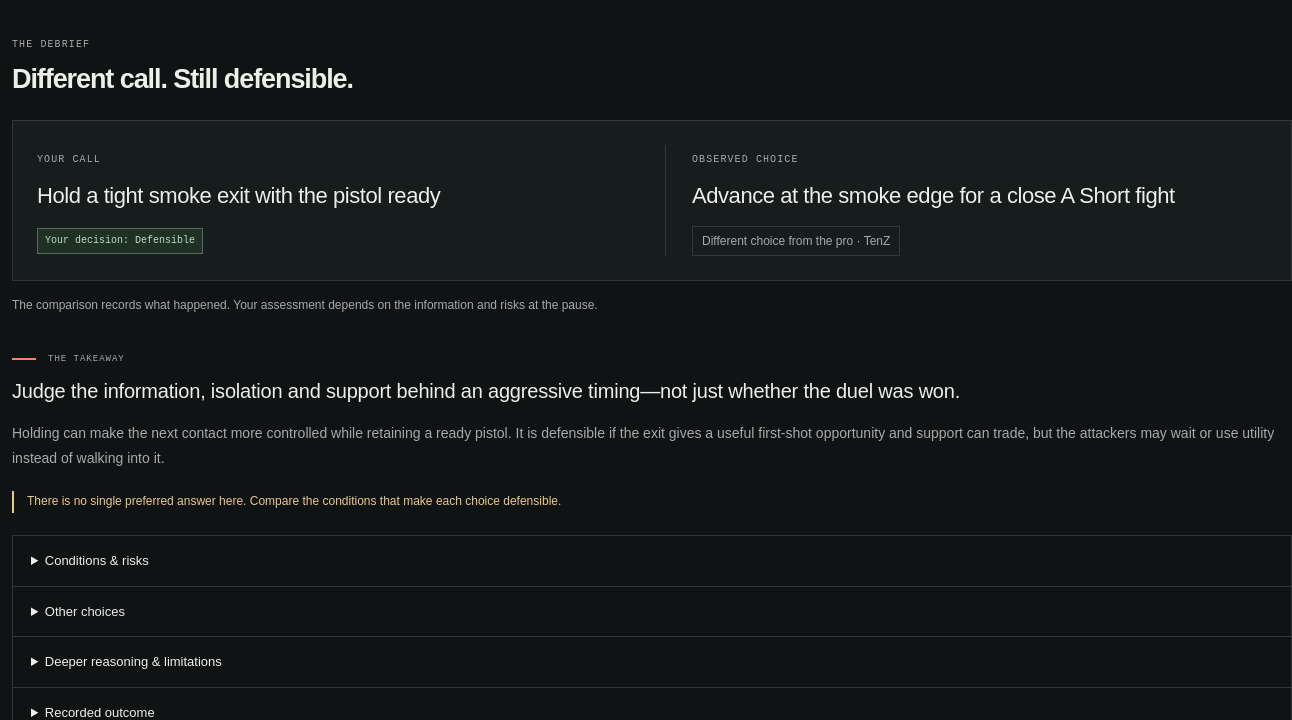
Test: keeps interpretation and observed outcome available without presenting them as the pro's intent
Step 1. Click the heading "Deeper reasoning & limitations" → click(133, 662), box 45,654 -> 222,669
(page scrolled)
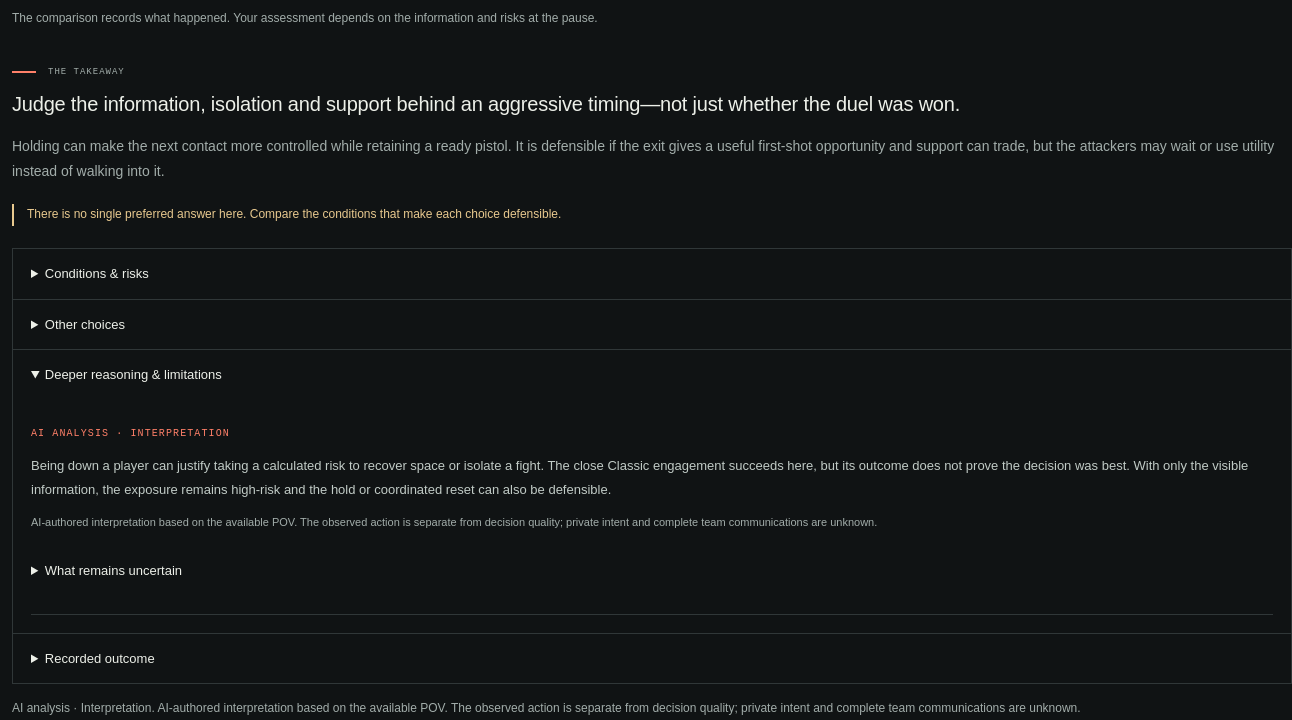
expect the text "Being down a player can justify taking a calculated risk to recover space or isolate a fight. The close Classic engageme" is shown: met, box 31,458 -> 1248,497
Step 2. Click the heading "What remains uncertain" → click(113, 571), box 45,564 -> 182,578
(page scrolled)
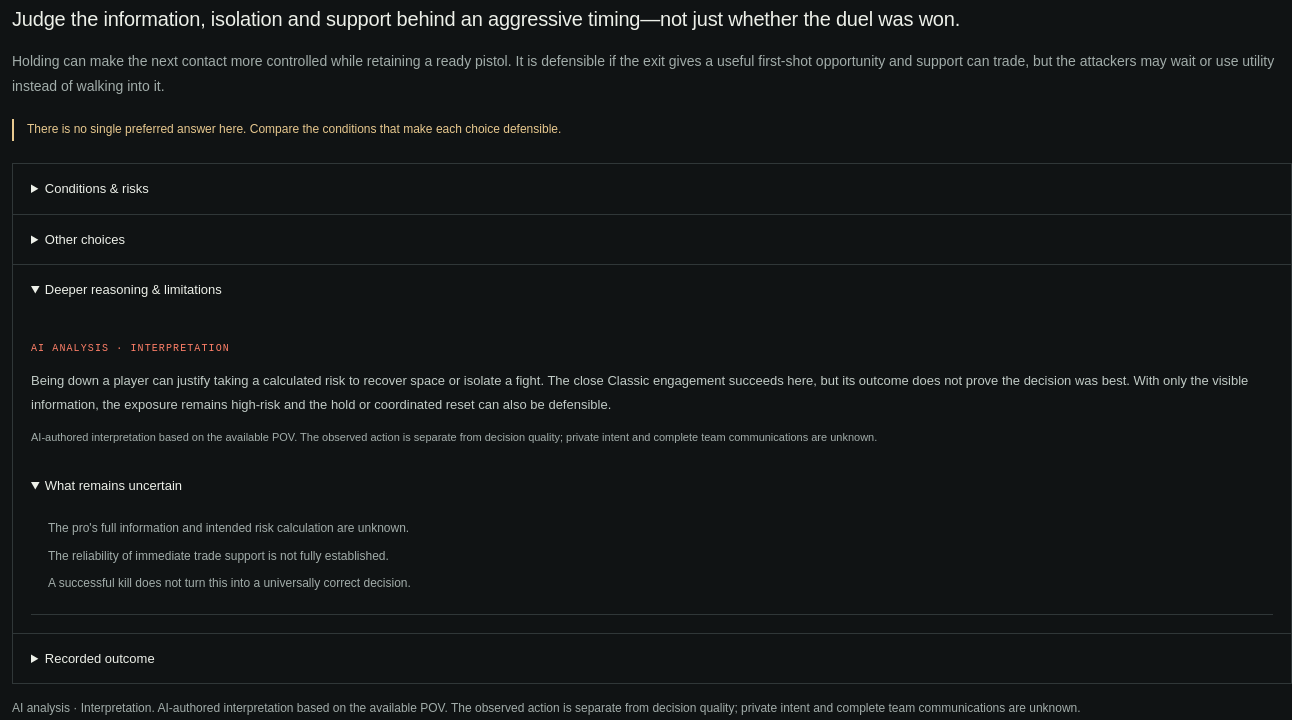
expect the list item "The pro's full information and intended risk calculation are unknown." is shown: met, box 48,521 -> 409,535
expect the list item "The reliability of immediate trade support is not fully established." is shown: met, box 48,548 -> 389,562
expect the list item "A successful kill does not turn this into a universally correct decision." is shown: met, box 48,576 -> 411,590
Step 3. Click the heading "Recorded outcome" → click(100, 658), box 45,651 -> 155,666
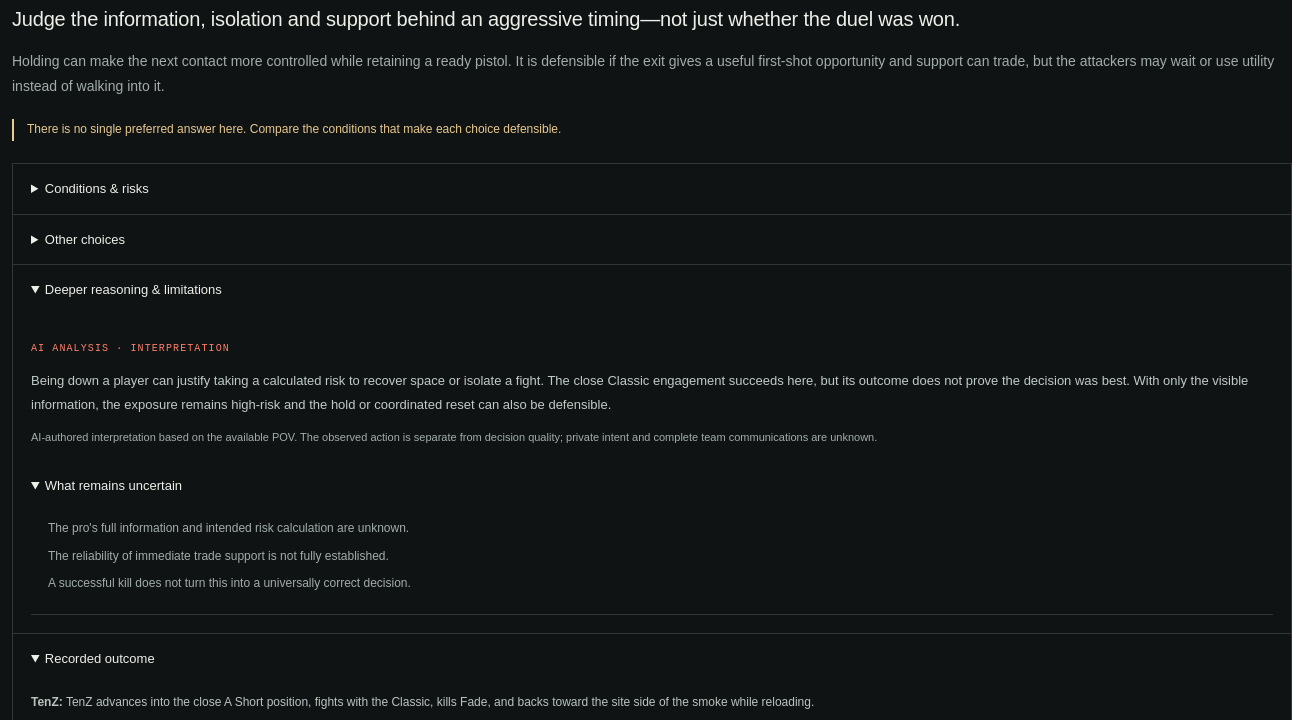
expect the text "TenZ advances into the close A Short position, fights with the Classic, kills Fade, and backs toward the site side of th" is shown: met, box 66,695 -> 814,709
